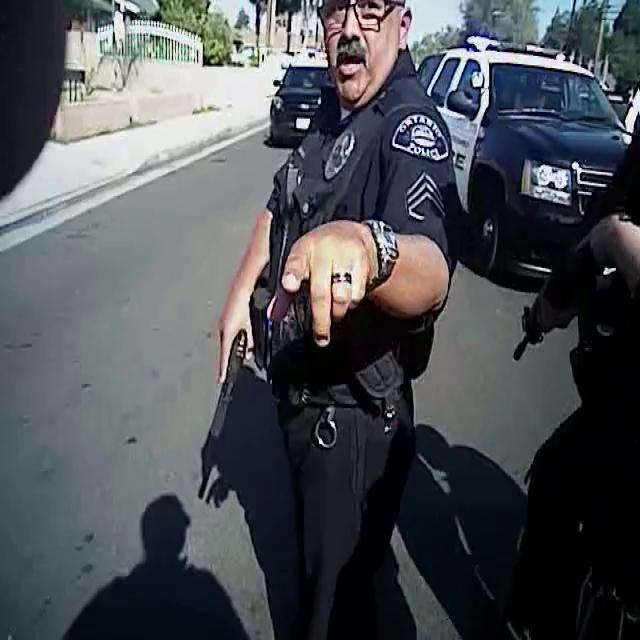gun: (202, 309, 264, 458)
